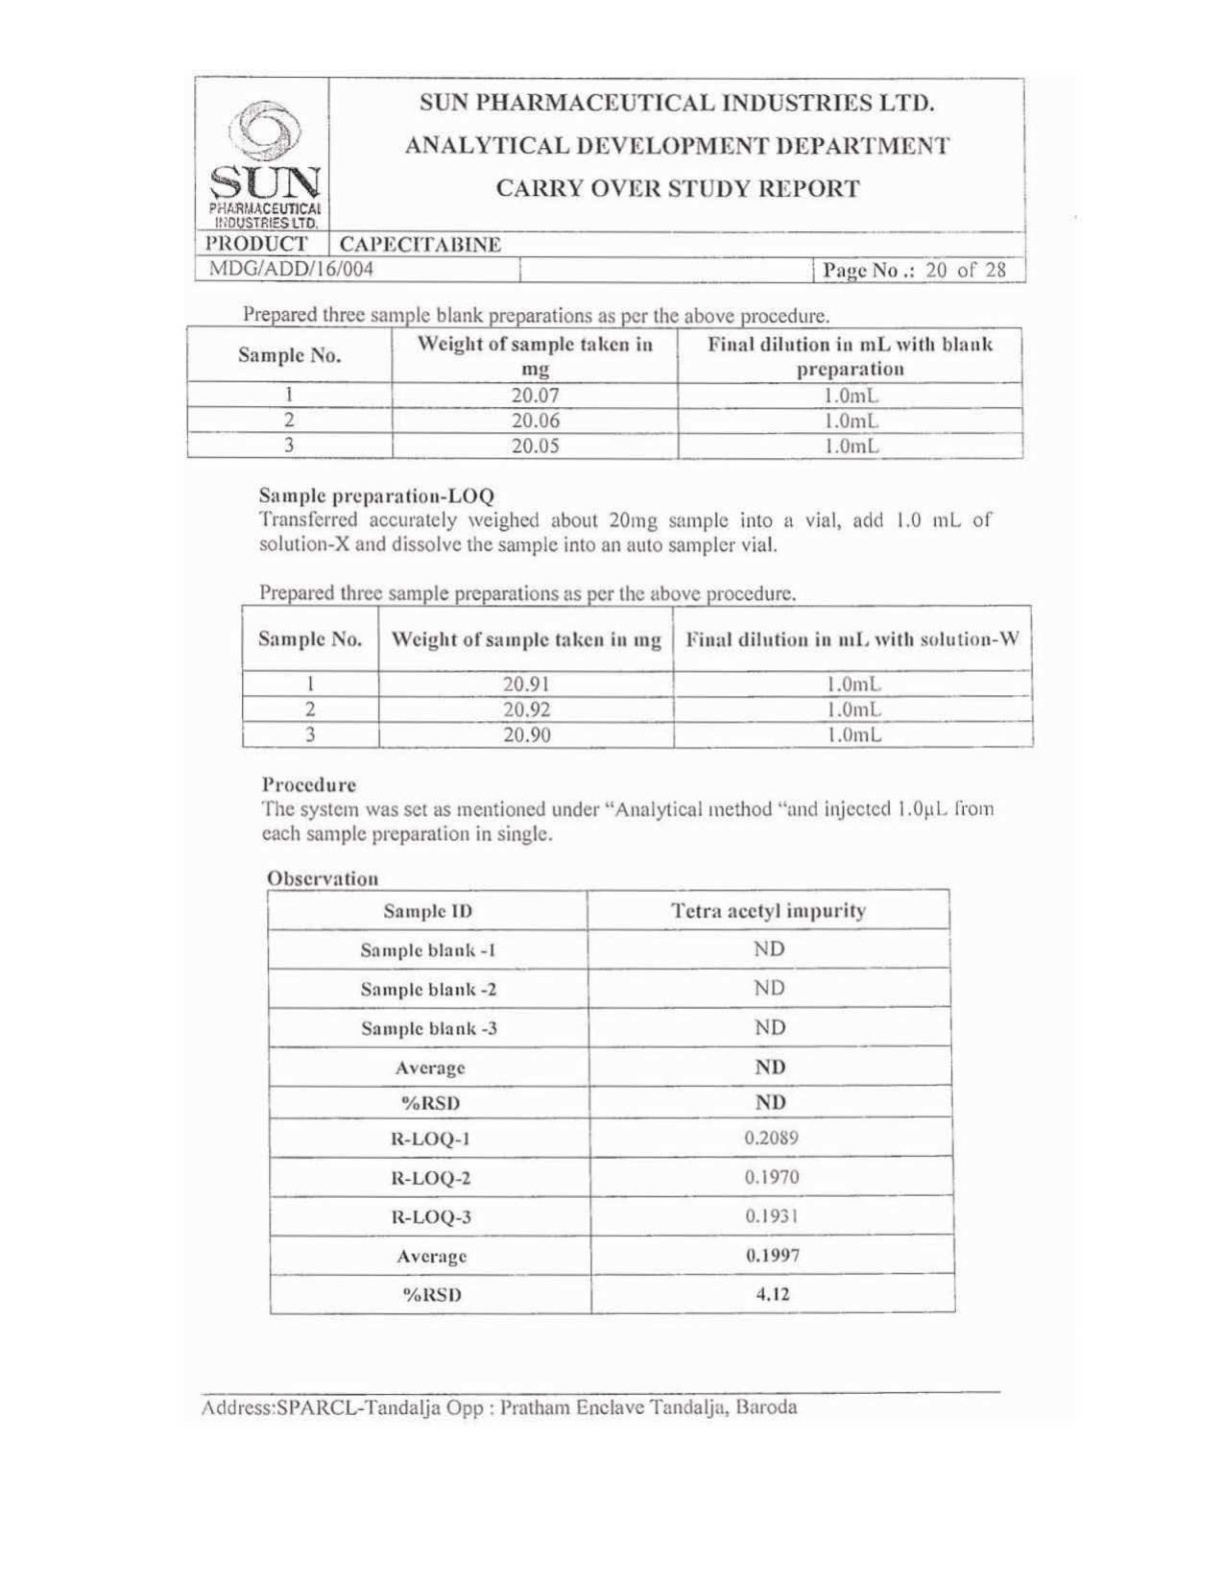full_lined: (264, 887, 957, 1315), (184, 324, 1023, 461), (240, 603, 1034, 748)
merged_cells: (192, 73, 1027, 284)
